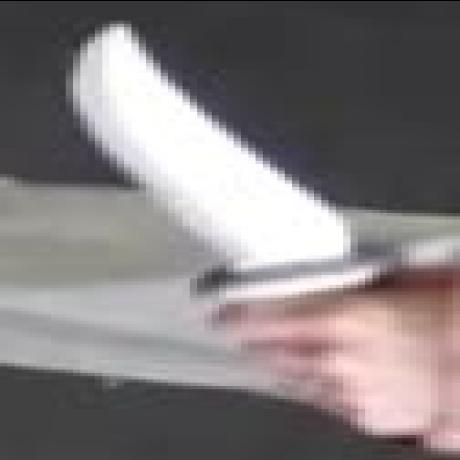weapon: (56, 18, 394, 292)
